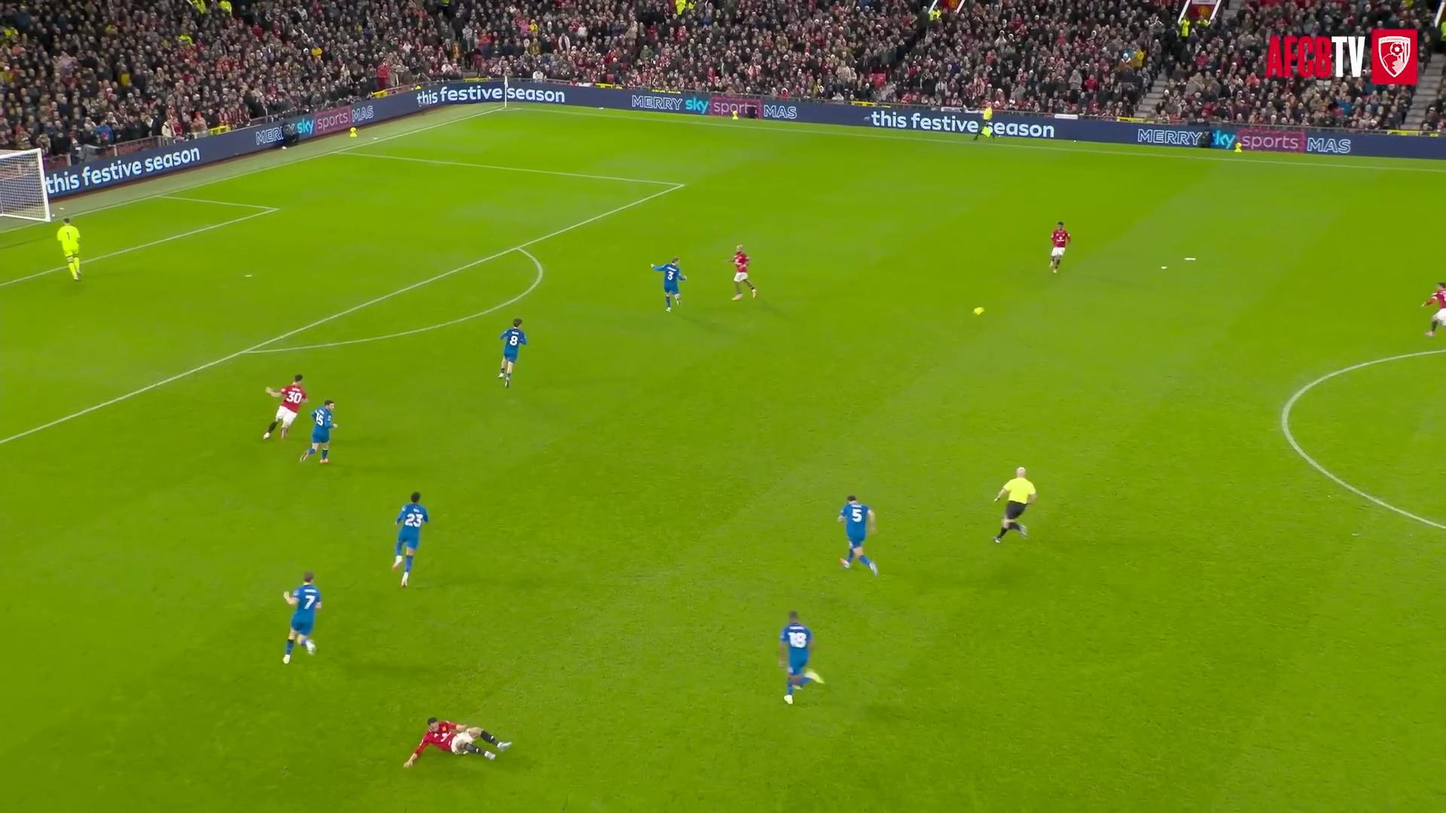football: (968, 301, 991, 321)
player: (404, 717, 510, 767), (779, 611, 823, 704), (283, 571, 321, 663), (392, 492, 429, 586), (838, 496, 877, 576), (263, 374, 307, 439), (300, 399, 337, 464), (651, 257, 686, 311), (499, 318, 526, 387), (56, 217, 79, 280), (733, 245, 757, 300), (1422, 282, 1445, 336), (1050, 221, 1071, 273)
referee: (993, 467, 1036, 542), (976, 101, 999, 152)
